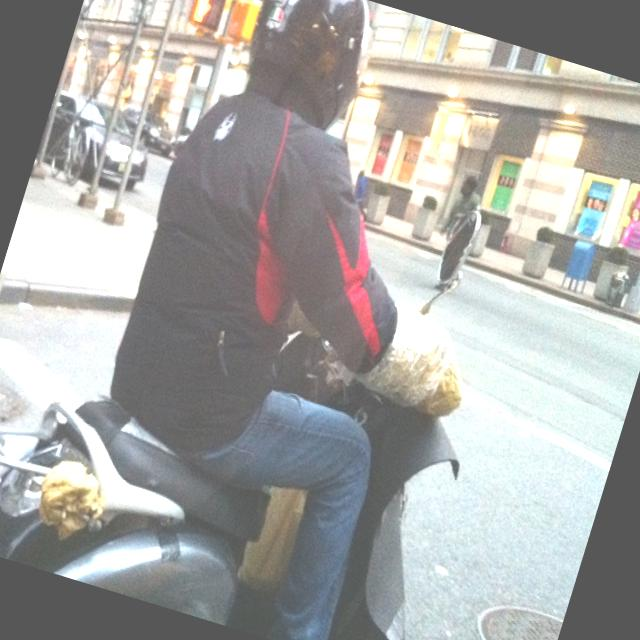Vehicle: (0, 185, 517, 640), (32, 88, 160, 197), (113, 102, 181, 158)
